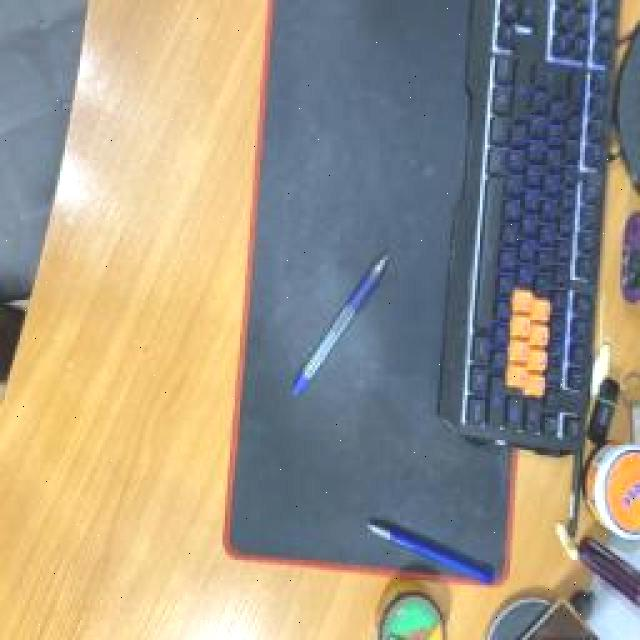pen: (290, 255, 388, 398)
